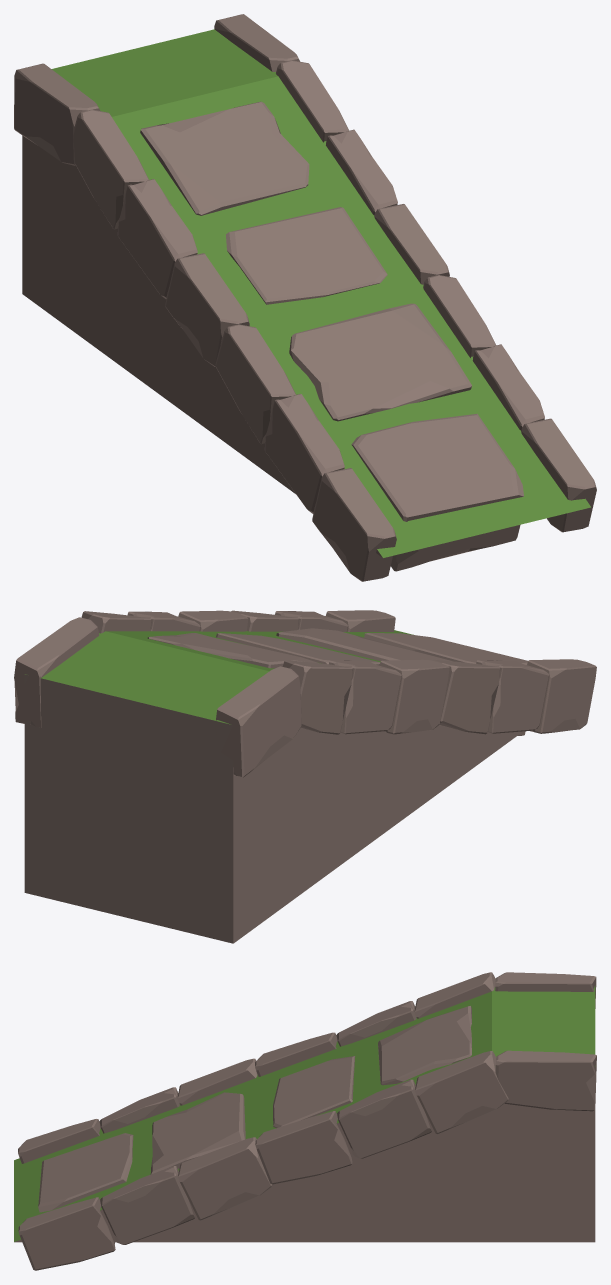
The model's file is tile_grass_stair.glb.
The picture shows the model from 3 angles, top to bottom: view 1: azimuth 30°, elevation 25°; view 2: azimuth 150°, elevation 25°; view 3: azimuth 270°, elevation 25°; orthographic projection. The views are drawn at different scales.
Visible parts, largest first — view 1: Stones, Ground_Stair; view 2: Ground_Stair, Stones; view 3: Stones, Ground_Stair.
Part boxes in pixels (box(x1,y1,x2,y2)): Stones: box(14, 14, 596, 581); Ground_Stair: box(22, 29, 590, 557); Ground_Stair: box(24, 630, 522, 943); Stones: box(14, 610, 596, 777); Stones: box(18, 972, 596, 1270); Ground_Stair: box(14, 985, 595, 1242).
Size of the model in its own units: 3.31 by 3.8 by 9.03.
